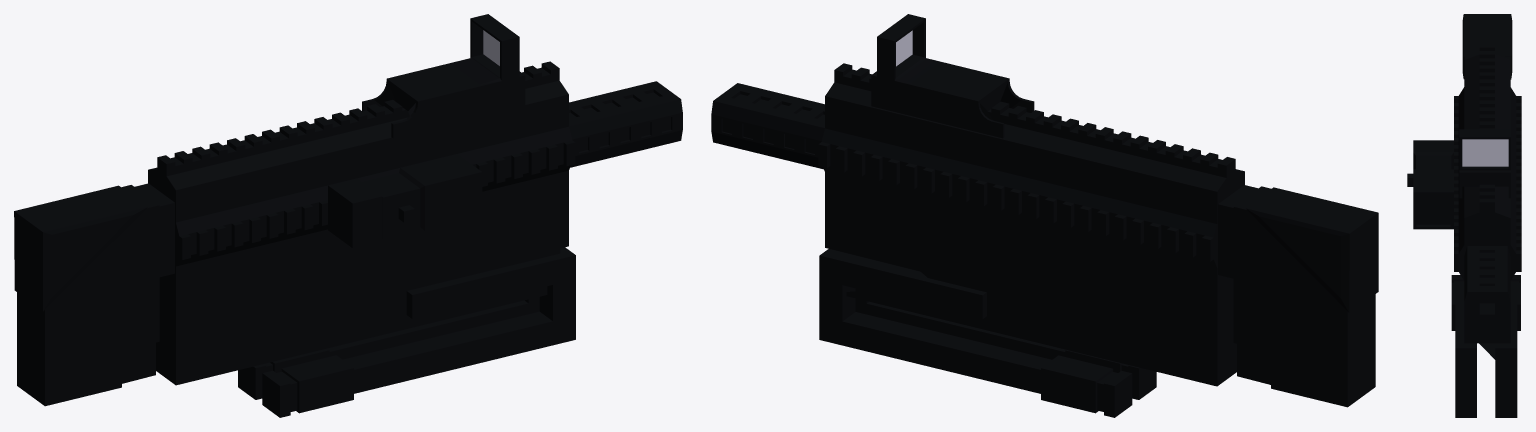
File: smg.fbx
3 renders of one model, left to right at view 1: azimuth 30°, elevation 25°; view 2: azimuth 150°, elevation 25°; view 3: azimuth 270°, elevation 25°, orthographic. The views are drawn at different scales.
Visible parts, largest first — view 1: SMG; view 2: SMG; view 3: SMG.
Part boxes in pixels (bbox=[...]): SMG: bbox=[14, 14, 682, 417]; SMG: bbox=[711, 14, 1378, 417]; SMG: bbox=[1407, 14, 1521, 417].
Size of the model in its own units: 687 by 326 by 129.
